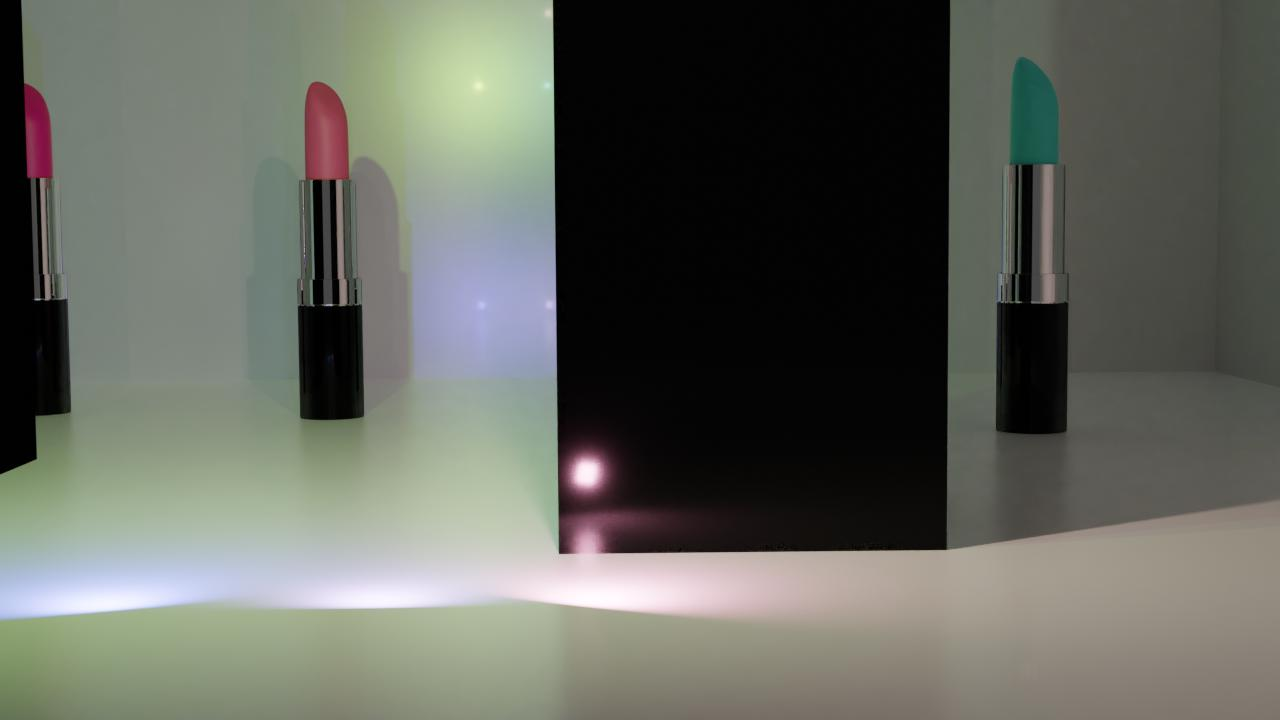CLASSIFIER_NAME: (994, 52, 1070, 433), (0, 79, 73, 416), (296, 77, 366, 425)
